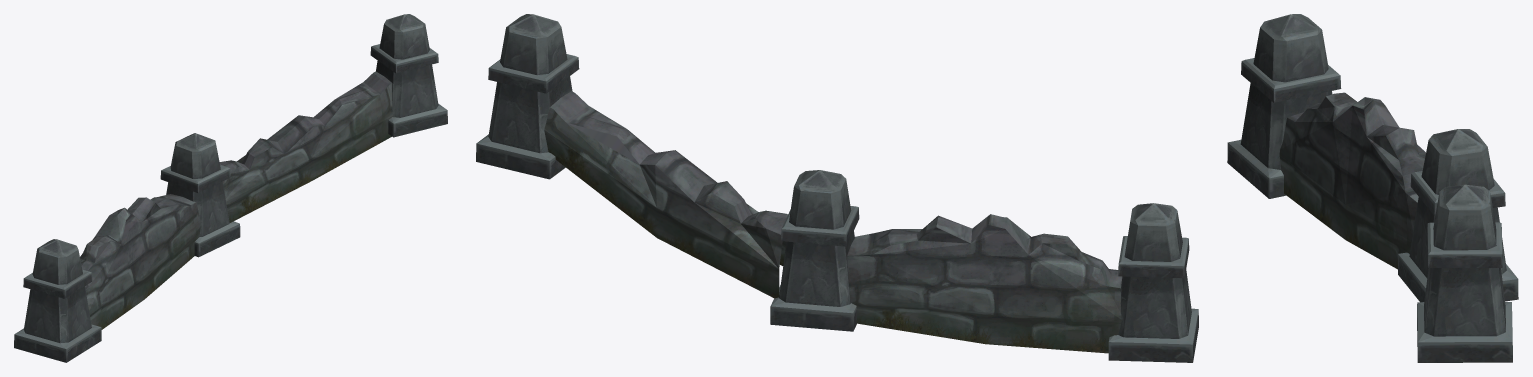
File: object_stonewalls01.fbx
3 views of the same model, side by side, from view 1: azimuth 30°, elevation 25°; view 2: azimuth 150°, elevation 25°; view 3: azimuth 270°, elevation 25° (orthographic). The views are drawn at different scales.
Parts seen in each view (by area): view 1: obj1.028; view 2: obj1.028; view 3: obj1.028.
Part boxes in pixels (x1,y1,x2,y2): obj1.028: [14, 14, 447, 362]; obj1.028: [476, 14, 1198, 362]; obj1.028: [1227, 14, 1518, 362].
Size of the model in its own units: 10.28 by 3.97 by 3.67.
